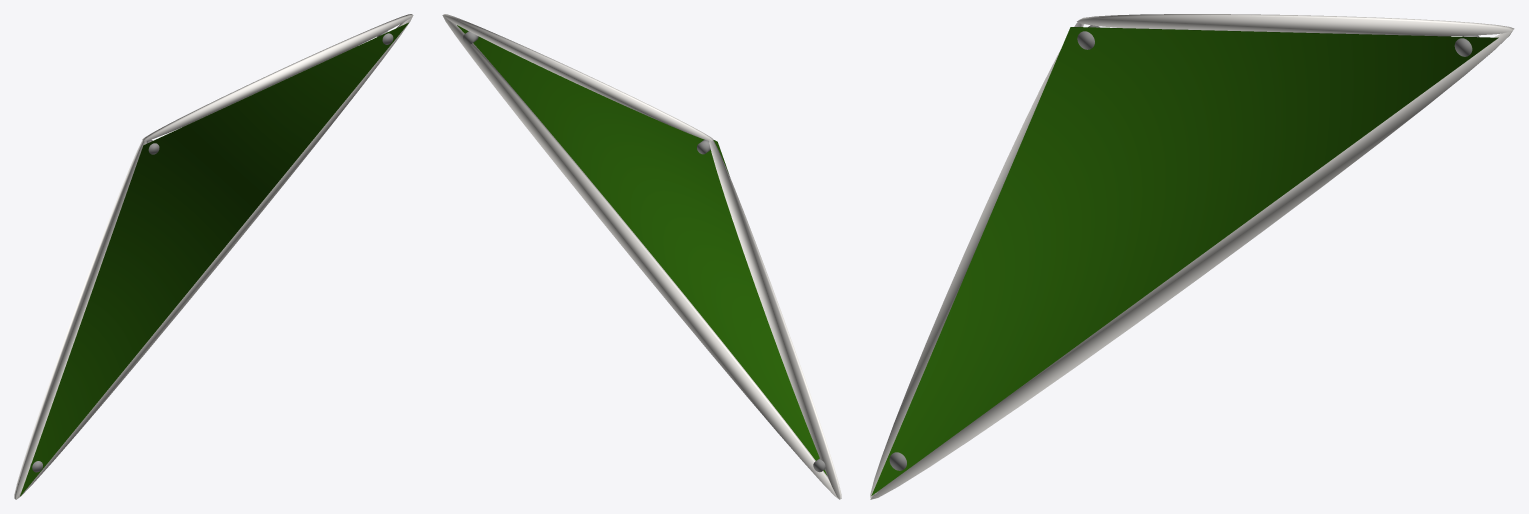
File: bumper_2.fbx
3 renders of one model, left to right at view 1: azimuth 30°, elevation 25°; view 2: azimuth 150°, elevation 25°; view 3: azimuth 330°, elevation 25°, orthographic. The views are drawn at different scales.
Visible parts, largest first — view 1: Cylinder_003; view 2: Cylinder_003; view 3: Cylinder_003.
Boxes of the visible parts, x1,y1,x2,y2 form: Cylinder_003: (14,14,413,499); Cylinder_003: (442,14,841,499); Cylinder_003: (870,14,1514,499).
Size of the model in its own units: 76.14 by 71.01 by 2.
